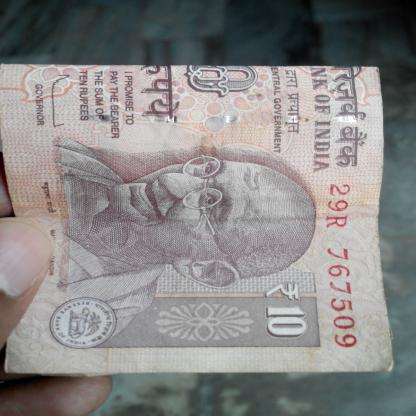Old10Front: (0, 61, 397, 375)
